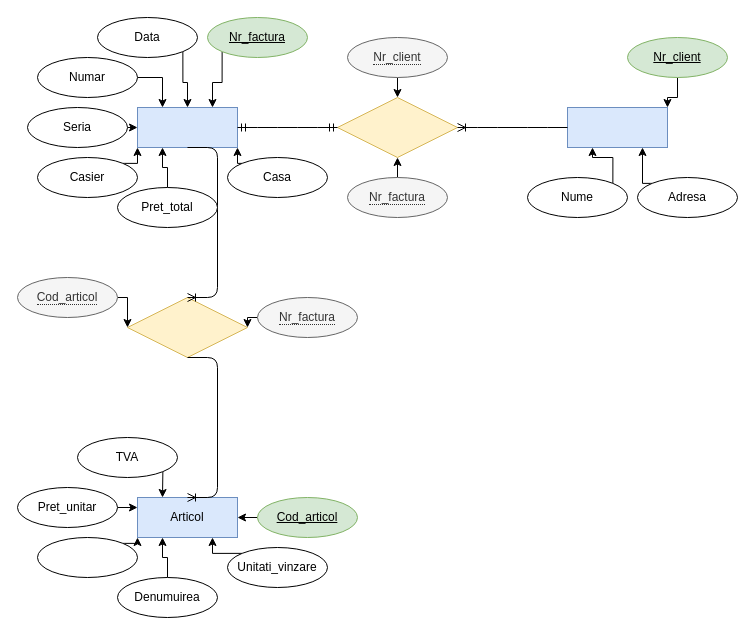
The diagram is 755 pixels wide and 635 high, and some of its shapes have lost their labels. The box of each missing label's shape, as (x1, y1, x2, y2) in pixels:
Apartine: (336, 96, 458, 158)
Cantitatea: (36, 536, 138, 578)
Client: (566, 106, 668, 148)
Contine: (126, 296, 248, 358)
Factura: (136, 106, 238, 148)
